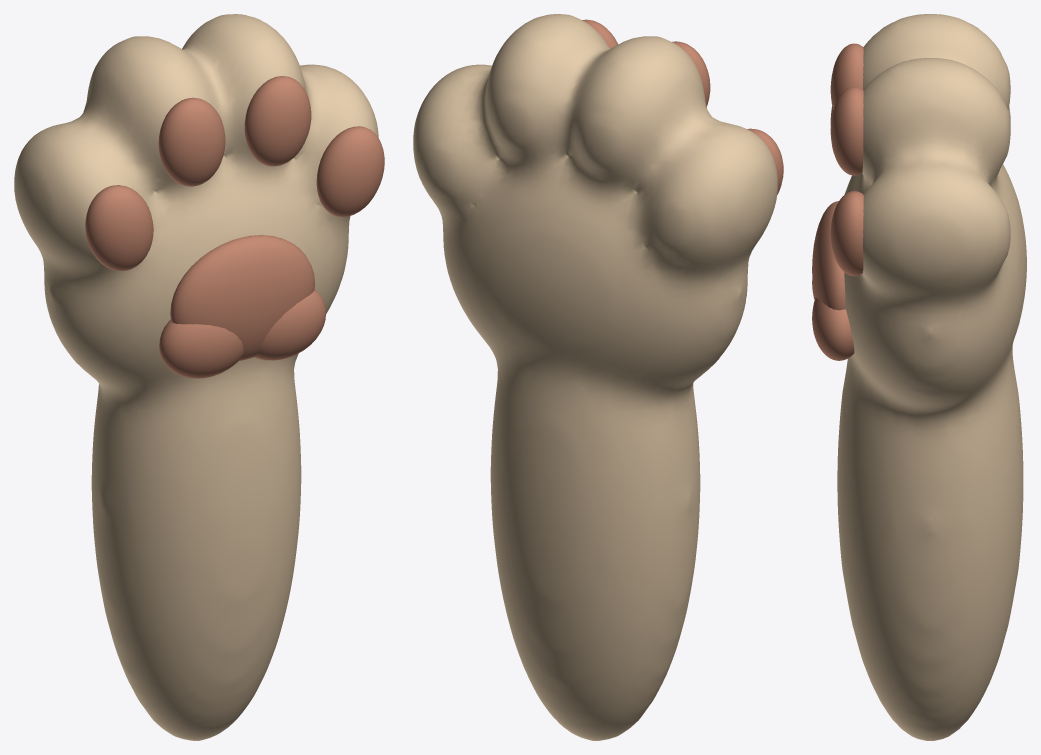
File: paw.glb
3 renders of one model, left to right at view 1: azimuth 30°, elevation 25°; view 2: azimuth 150°, elevation 25°; view 3: azimuth 270°, elevation 25°, orthographic.
Parts seen in each view (by area): view 1: Nekonote — one helping paw, central heart pad, toe bean 3, toe bean 2, toe bean 1, toe bean 0, pad left lobe, pad right lobe; view 2: Nekonote — one helping paw; view 3: Nekonote — one helping paw, toe bean 2, toe bean 3, central heart pad, pad right lobe, toe bean 1.
Boxes of the visible parts, x1,y1,x2,y2 form: Nekonote — one helping paw: (14,14,378,740); central heart pad: (170,235,314,360); toe bean 3: (316,126,384,216); toe bean 2: (244,76,311,166); toe bean 1: (158,97,225,186); toe bean 0: (85,185,153,271); pad left lobe: (159,319,243,378); pad right lobe: (254,289,325,360); Nekonote — one helping paw: (413,14,777,740); Nekonote — one helping paw: (837,14,1026,740); toe bean 2: (830,86,863,175); toe bean 3: (830,191,863,276); central heart pad: (812,201,845,310); pad right lobe: (812,298,854,360); toe bean 1: (830,43,863,109).
Size of the model in its own units: 2.27 by 4.55 by 1.27.
